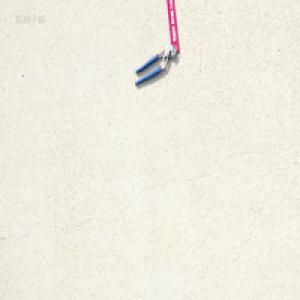Label: (166, 0, 180, 56)
Pliers: (133, 47, 176, 89)
